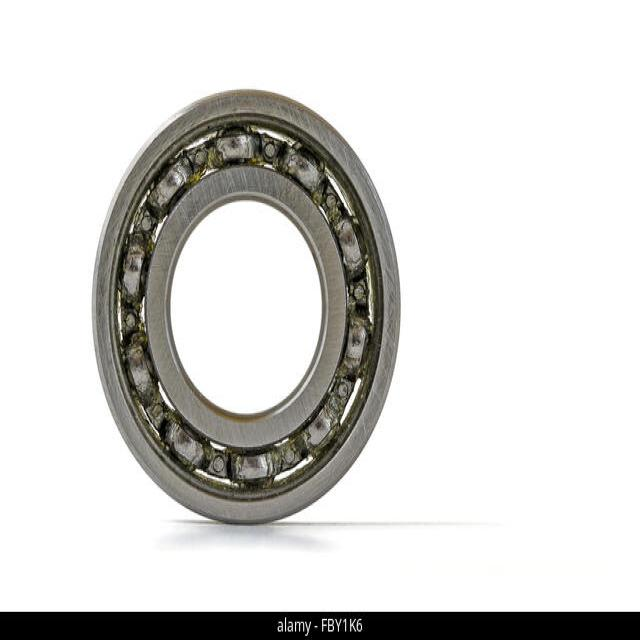Bearing: (90, 86, 402, 525)
